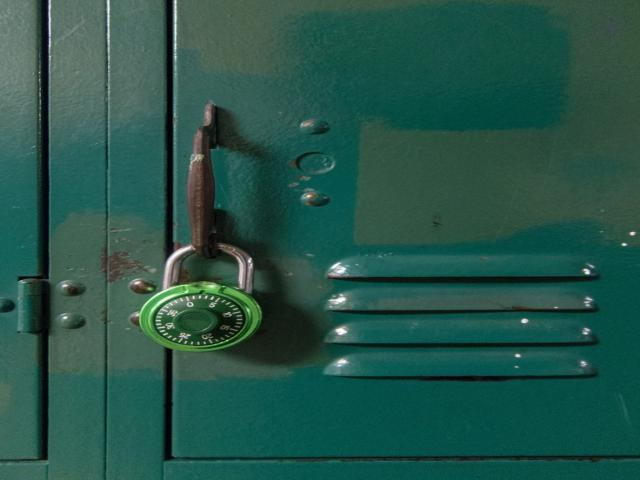Door-handle: (191, 102, 220, 258)
